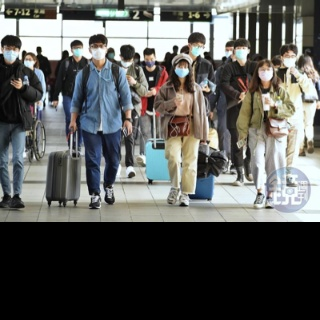with_mask: (1, 44, 19, 62), (90, 41, 106, 60), (173, 62, 190, 78), (258, 65, 273, 80), (234, 44, 248, 60), (283, 51, 296, 68), (190, 41, 204, 56), (120, 56, 132, 68), (72, 44, 83, 57), (144, 56, 156, 67), (23, 56, 33, 68), (224, 47, 234, 59), (106, 48, 115, 59), (132, 54, 139, 62)
